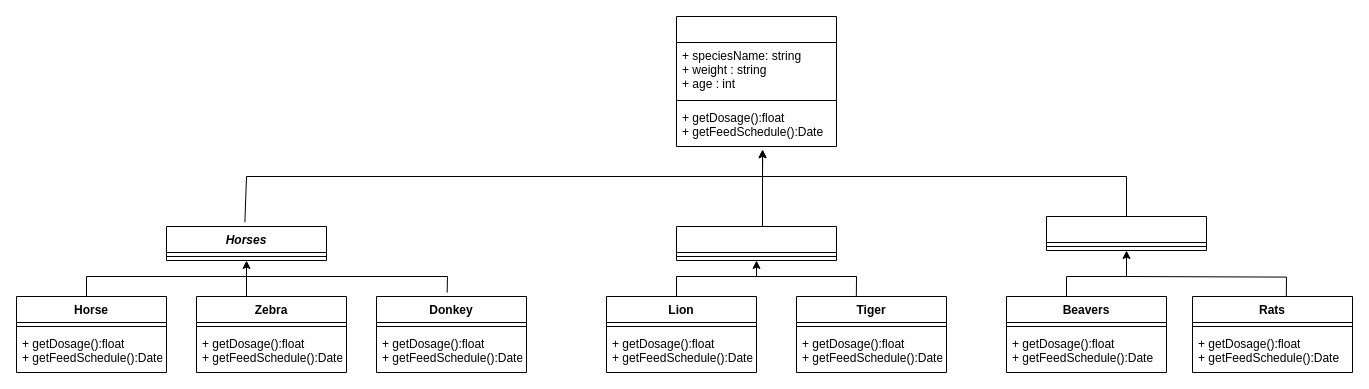
Image size: 1369x389. Some labels were removed from this diagram. Here are the shapes that lost their labels. From the top down, the box of each, then its label:
(676, 16, 836, 146): Animals
(676, 226, 836, 260): Felines
(1046, 216, 1206, 250): Rodents
